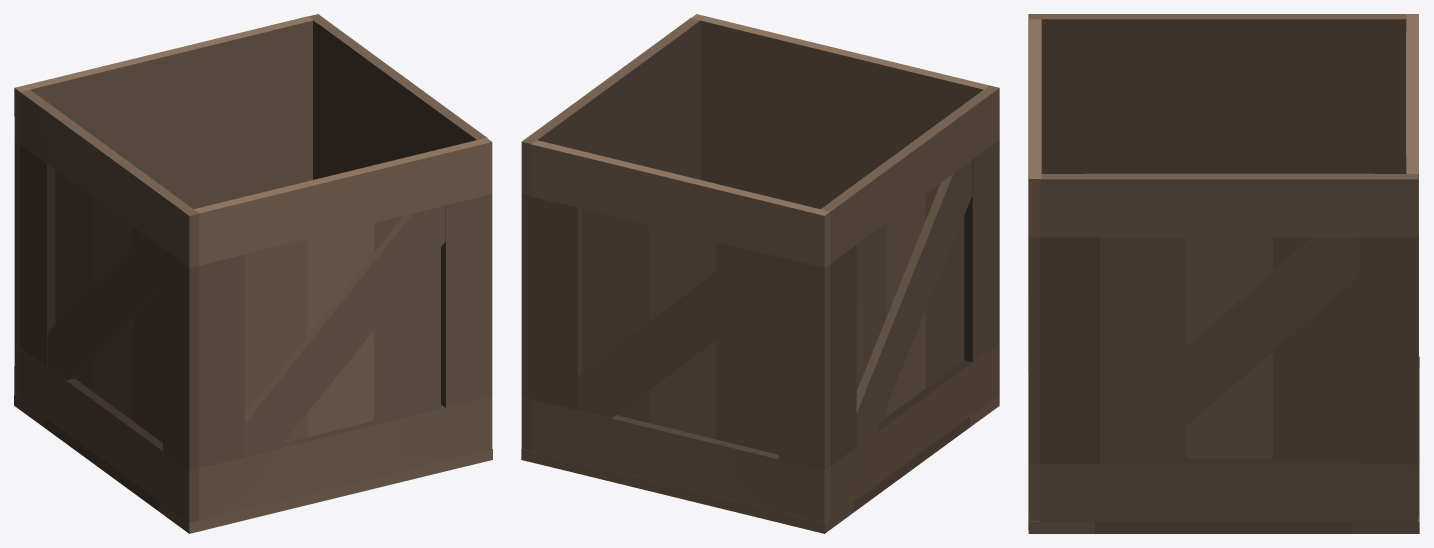
3 views of the same model, side by side, from view 1: azimuth 30°, elevation 25°; view 2: azimuth 150°, elevation 25°; view 3: azimuth 270°, elevation 25° (orthographic). The views are drawn at different scales.
Parts seen in each view (by area): view 1: base3; view 2: base3; view 3: base3.
Boxes of the visible parts, x1=… form: base3: x1=14, y1=14, x2=492, y2=533; base3: x1=521, y1=14, x2=999, y2=533; base3: x1=1028, y1=14, x2=1419, y2=533.
Size of the model in its own units: 0.4997 by 0.5 by 0.4995.
